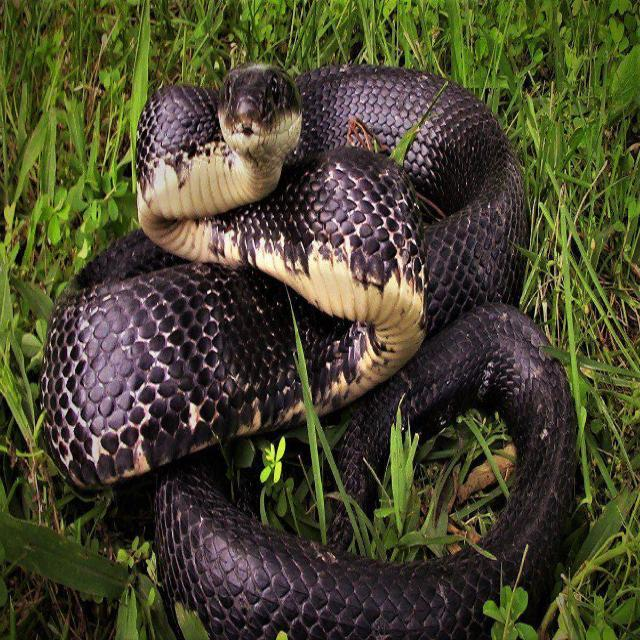Snake: (40, 54, 585, 640)
